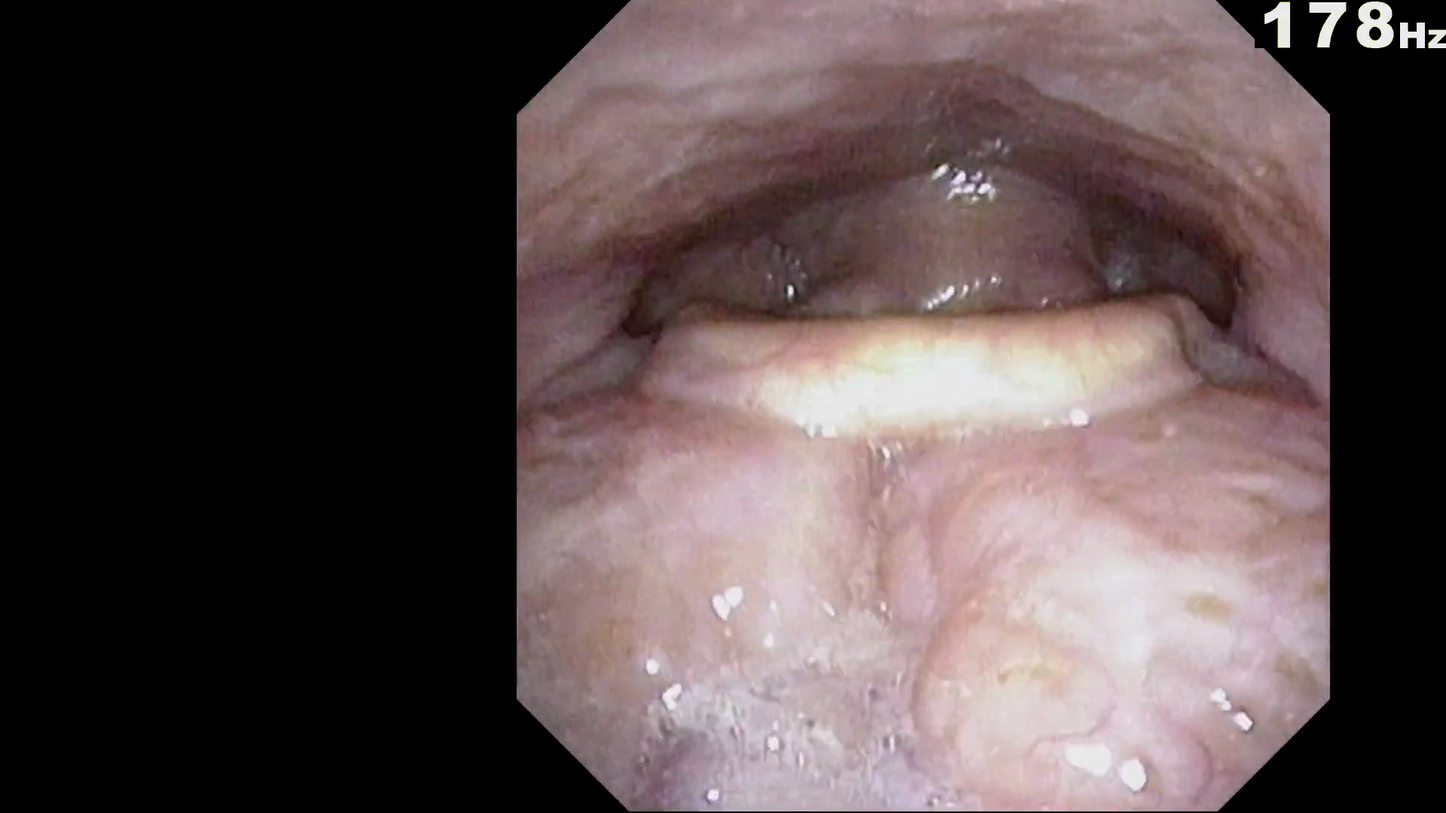epiglottis: (634, 271, 1232, 485)
